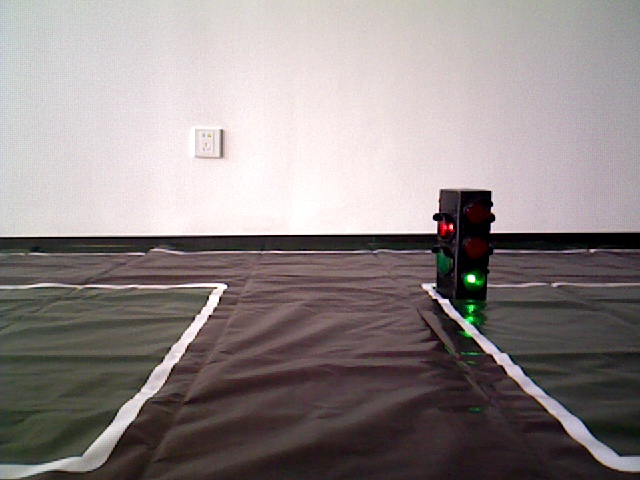green: (437, 189, 487, 291)
